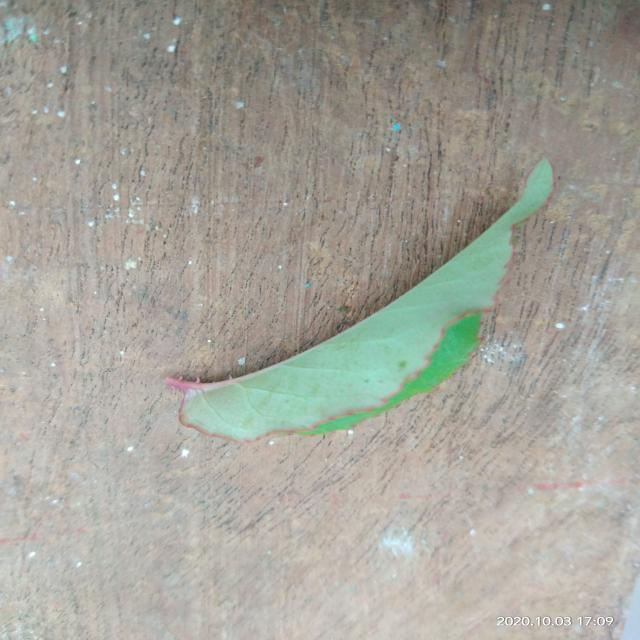rose: (165, 159, 553, 441)
